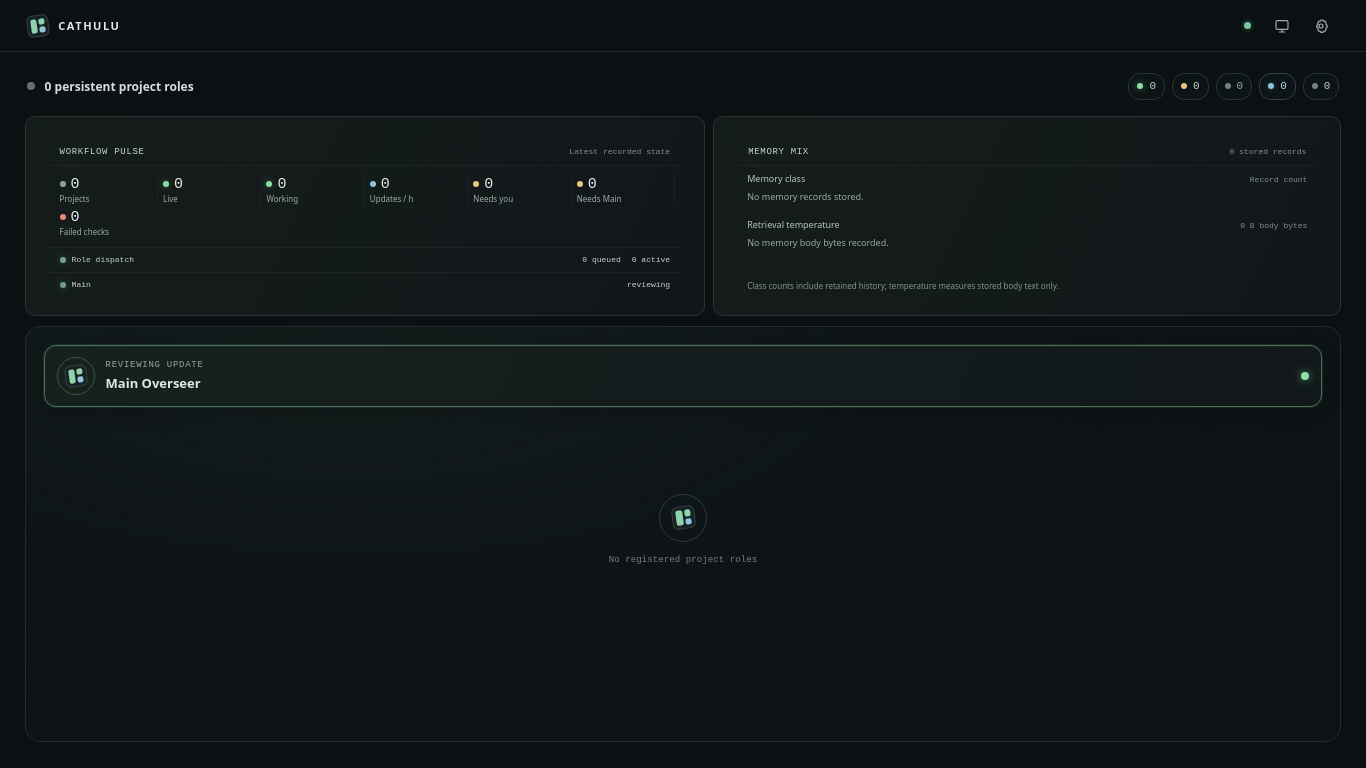
Test: dashboard and local Codex settings › shows Main as working only while a routed Main inbox turn is active
Click the button "REVIEWING UPDATE Main Overseer" at (76, 376), box [44,345,1322,407]
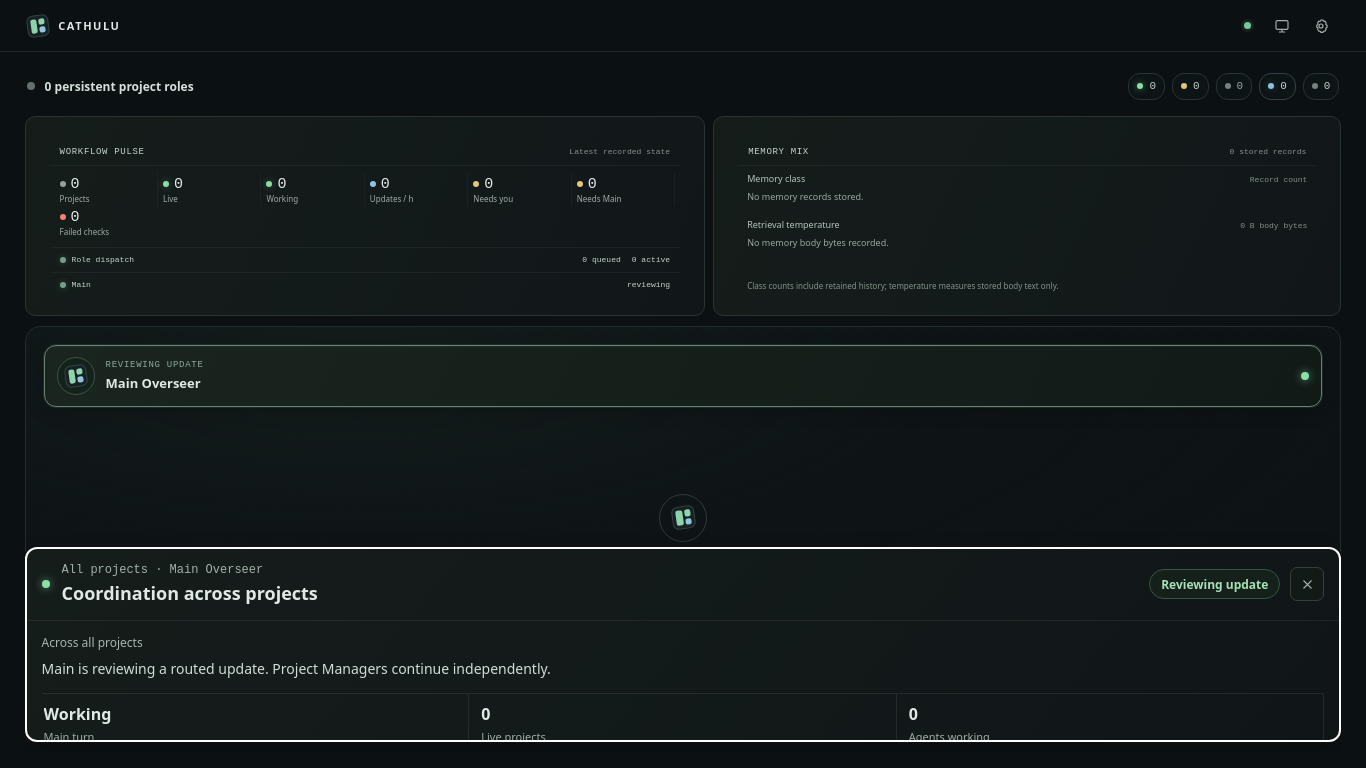
Now the text "Working" below "Across all projects" is shown, box [44,703,111,725]
